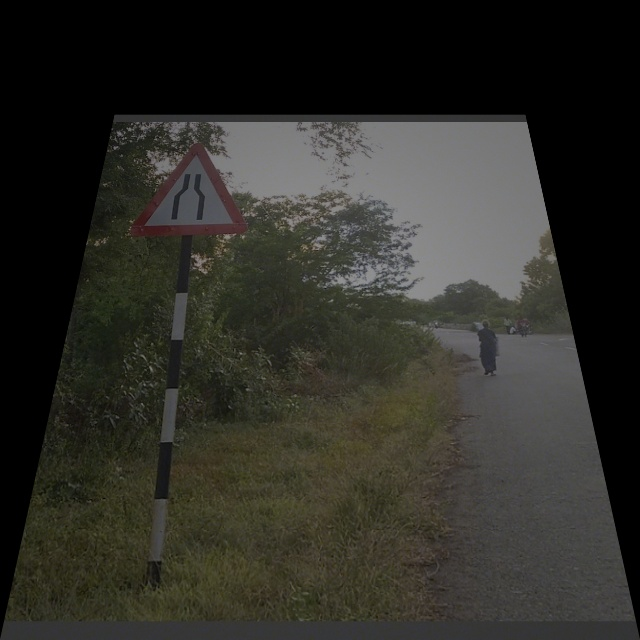Narrow_Road_Ahead: (129, 140, 256, 235)
